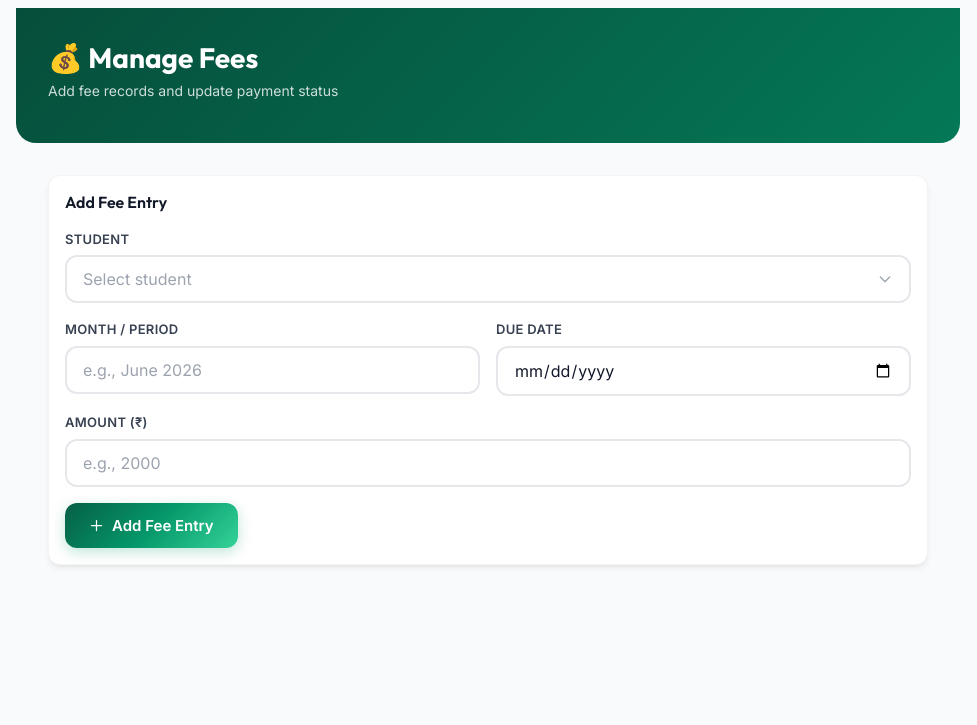
Test: FeeForm — switching student › a slow response for a deselected student is discarded
Expected: the heading "Add Fee Entry" is shown, 65,192 -> 167,212
What coordinates should you click on to do the following:
click the button with id "fee-student"
I would click on:
 (137, 279)
Its box is 65,255 -> 911,303.
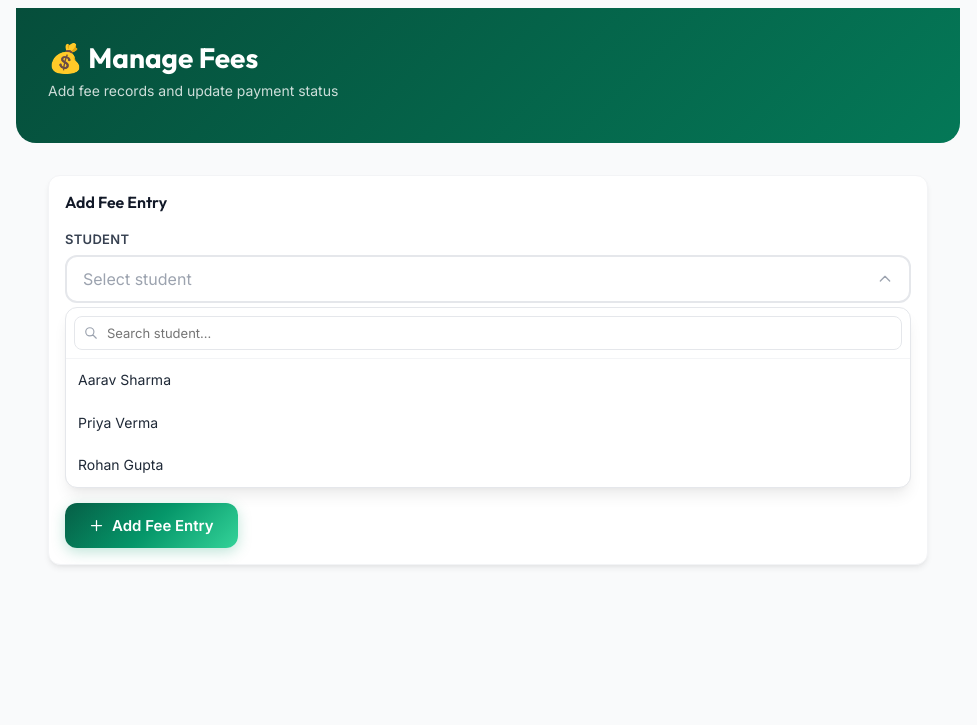
What coordinates should you click on to do the following:
click the option "Aarav Sharma"
I would click on:
 (124, 380)
Its box is 78,371 -> 171,388.
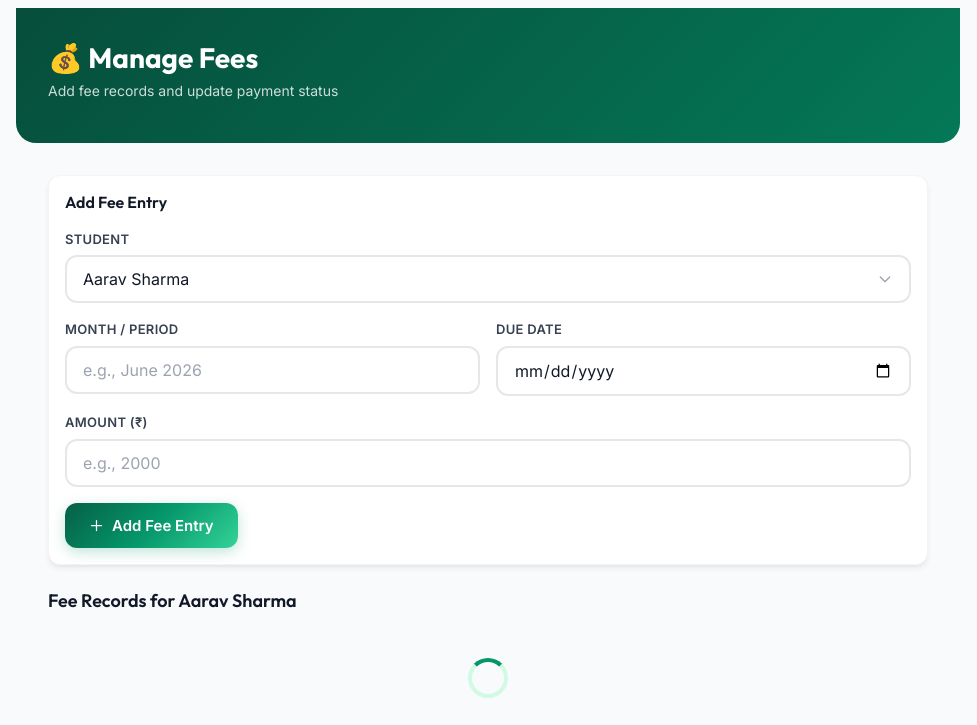
What coordinates should you click on to do the following:
click the button with id "fee-student"
I would click on:
 (136, 279)
Its box is 65,255 -> 911,303.
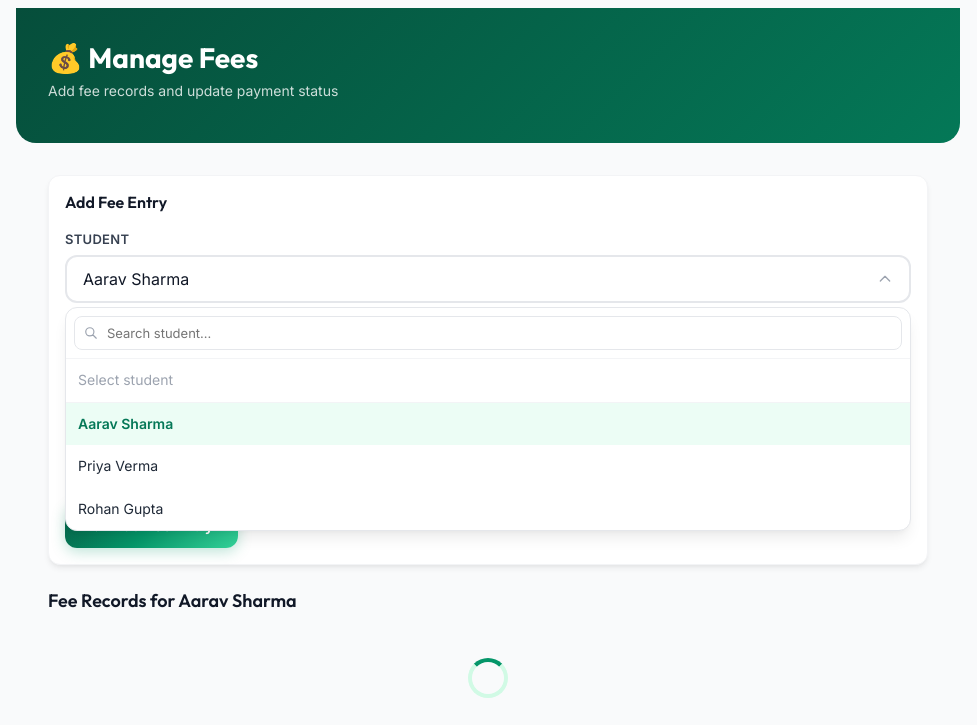
What coordinates should you click on to do the following:
click the option "Priya Verma"
I would click on:
 (118, 466)
Its box is 78,457 -> 158,474.
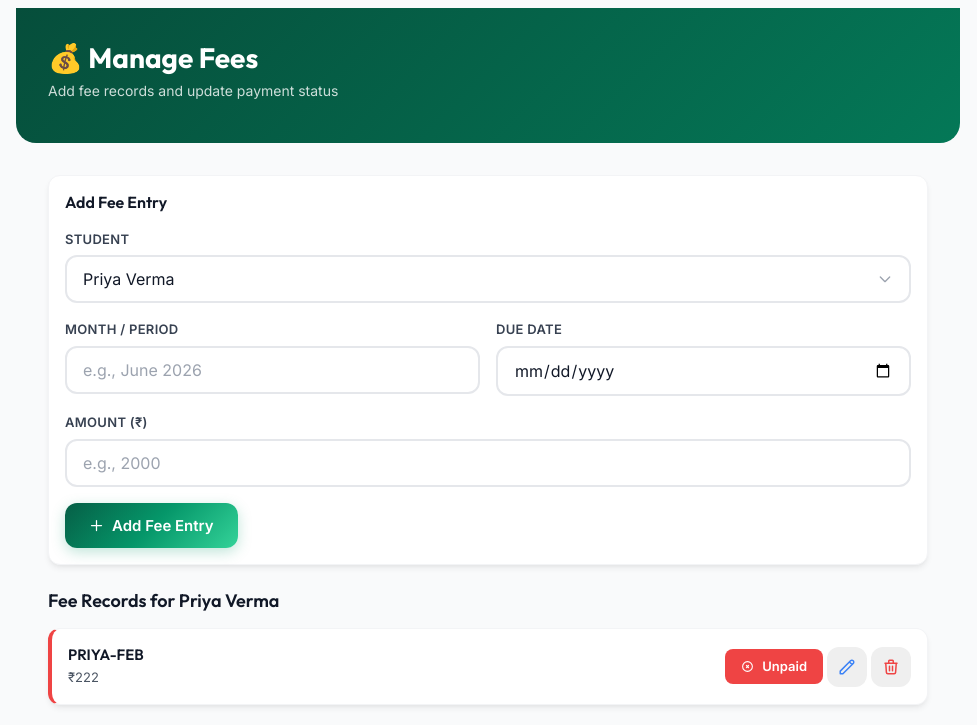
Expected: the heading "PRIYA-FEB" is shown, 68,645 -> 144,664
